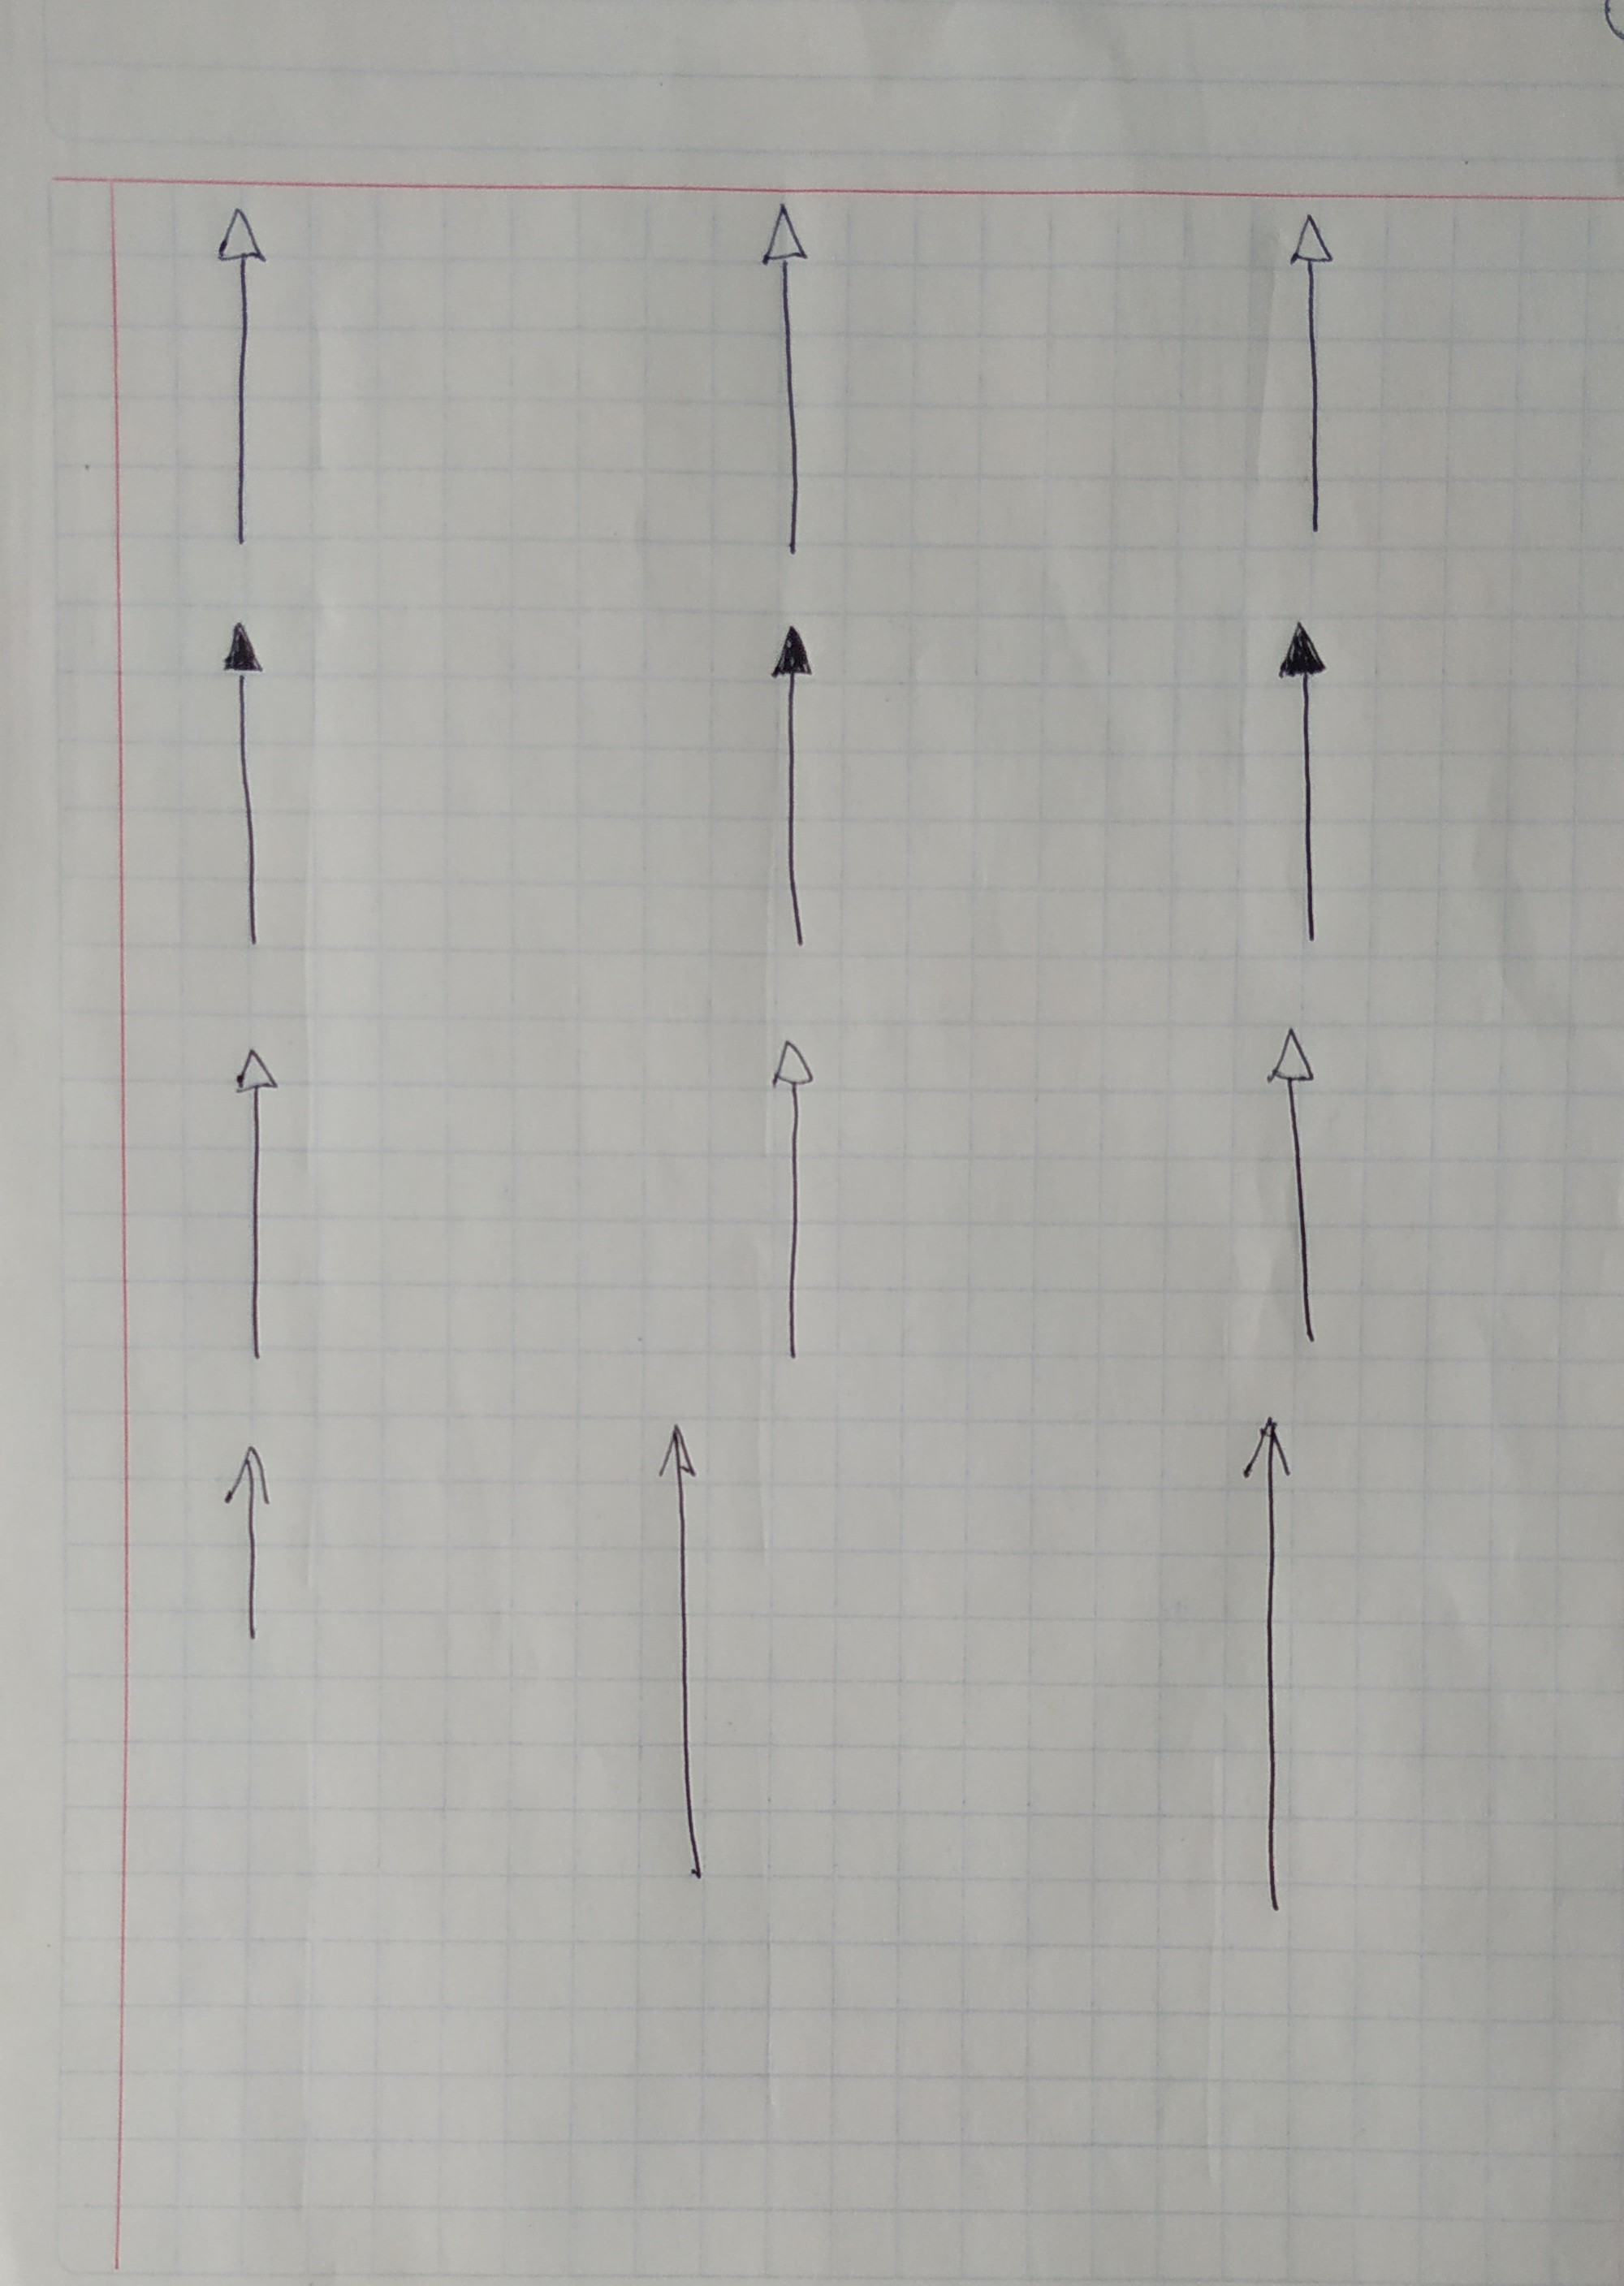arrow_line_up: (1234, 1414, 1302, 1919), (652, 1418, 712, 1891), (1260, 1023, 1330, 1351), (754, 204, 817, 566), (218, 615, 279, 959), (1283, 209, 1343, 543), (1271, 620, 1330, 949), (766, 1035, 824, 1371), (213, 200, 264, 555), (765, 622, 816, 954), (230, 1045, 279, 1367), (214, 1441, 274, 1648)
